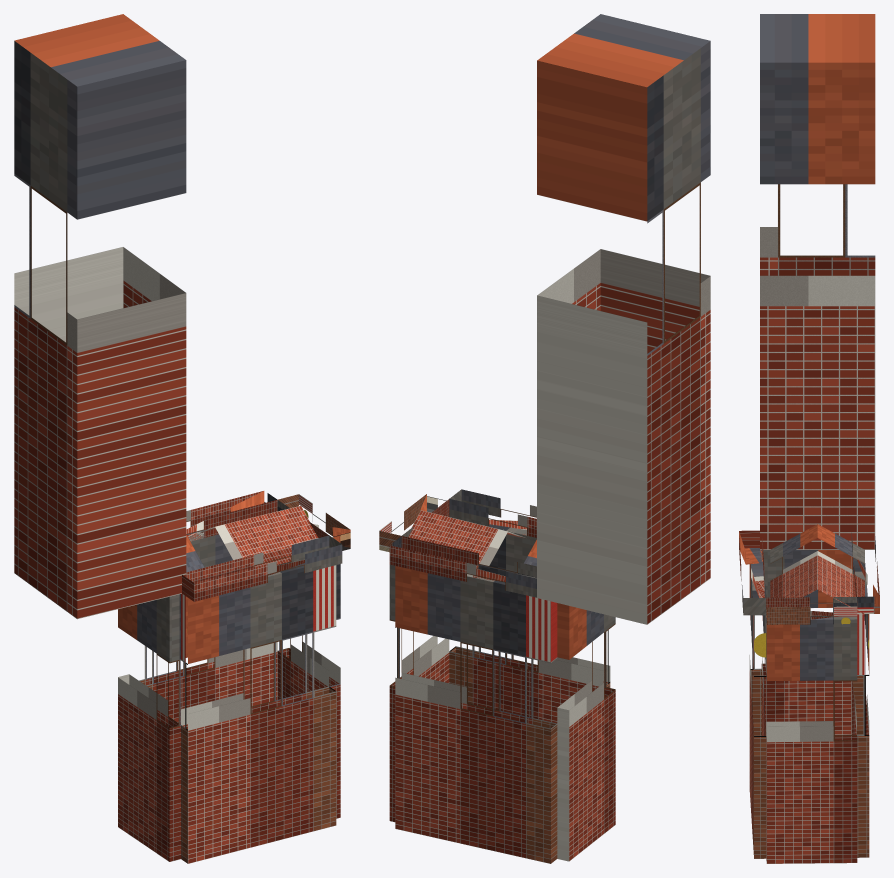
3 views of the same model, side by side, from view 1: azimuth 30°, elevation 25°; view 2: azimuth 150°, elevation 25°; view 3: azimuth 270°, elevation 25° (orthographic). The views are drawn at different scales.
Parts seen in each view (by area): view 1: 1107107792__chimney_0_xb, 1107107792__wall_2_xb, 1107107792__wall_3_xb, 1107107792__wall_0_xb, 1107107792__cornice_2, 1107107792_roof_-1_xb, 1107107792__wall_1_xb, 1107107792__cornice_0, 1107107792__cornice_1; view 2: 1107107792__chimney_0_xb, 1107107792__wall_0_xb, 1107107792__wall_3_xb, 1107107792__wall_2_xb, 1107107792__cornice_0, 1107107792__wall_1_xb, 1107107792_roof_1_xb, 1107107792__cornice_2, 1107107792__cornice_1; view 3: 1107107792__chimney_0_xb, 1107107792__wall_1_xb, 1107107792__wall_3_xb, 1107107792__wall_2_xb, 1107107792__wall_0_xb, 1107107792_roof_-1_xb, 1107107792_roof_1_xb, 1107107792__cornice_1, 1107107792__cornice_2, 1107107792__cornice_0.
Part boxes in pixels (<box>): 1107107792__chimney_0_xb: <box>14,14,186,619</box>; 1107107792__wall_2_xb: <box>181,563,336,863</box>; 1107107792__wall_3_xb: <box>118,594,180,861</box>; 1107107792__wall_0_xb: <box>139,532,277,724</box>; 1107107792__cornice_2: <box>182,535,342,601</box>; 1107107792_roof_-1_xb: <box>186,506,318,572</box>; 1107107792__wall_1_xb: <box>277,561,340,818</box>; 1107107792__cornice_0: <box>186,491,277,541</box>; 1107107792__cornice_1: <box>277,494,350,550</box>; 1107107792__chimney_0_xb: <box>537,14,710,624</box>; 1107107792__wall_0_xb: <box>395,566,557,863</box>; 1107107792__wall_3_xb: <box>557,603,615,861</box>; 1107107792__wall_2_xb: <box>449,524,610,723</box>; 1107107792__cornice_0: <box>389,536,536,597</box>; 1107107792__wall_1_xb: <box>389,564,449,822</box>; 1107107792_roof_1_xb: <box>408,510,536,578</box>; 1107107792__cornice_2: <box>449,489,536,537</box>; 1107107792__cornice_1: <box>379,494,449,552</box>; 1107107792__chimney_0_xb: <box>760,14,875,549</box>; 1107107792__wall_1_xb: <box>766,615,857,863</box>; 1107107792__wall_3_xb: <box>761,550,851,735</box>; 1107107792__wall_2_xb: <box>749,550,766,858</box>; 1107107792__wall_0_xb: <box>851,557,869,857</box>; 1107107792_roof_-1_xb: <box>770,524,817,606</box>; 1107107792_roof_1_xb: <box>817,524,864,614</box>; 1107107792__cornice_1: <box>766,597,857,624</box>; 1107107792__cornice_2: <box>739,530,766,615</box>; 1107107792__cornice_0: <box>851,533,879,614</box>.
Size of the model in its own units: 0.3814 by 1.05 by 0.1835.
1 material, 1 textured.
